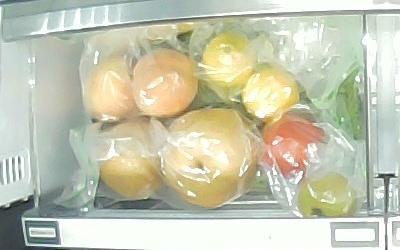peach_vinyl: (129, 48, 199, 118), (87, 54, 135, 119)
pear_vinyl: (161, 107, 260, 209), (96, 123, 161, 201)
tangerine_vinyl: (243, 67, 301, 121), (203, 32, 254, 89)
tomato_vinyl: (259, 111, 329, 180), (298, 170, 357, 218)
